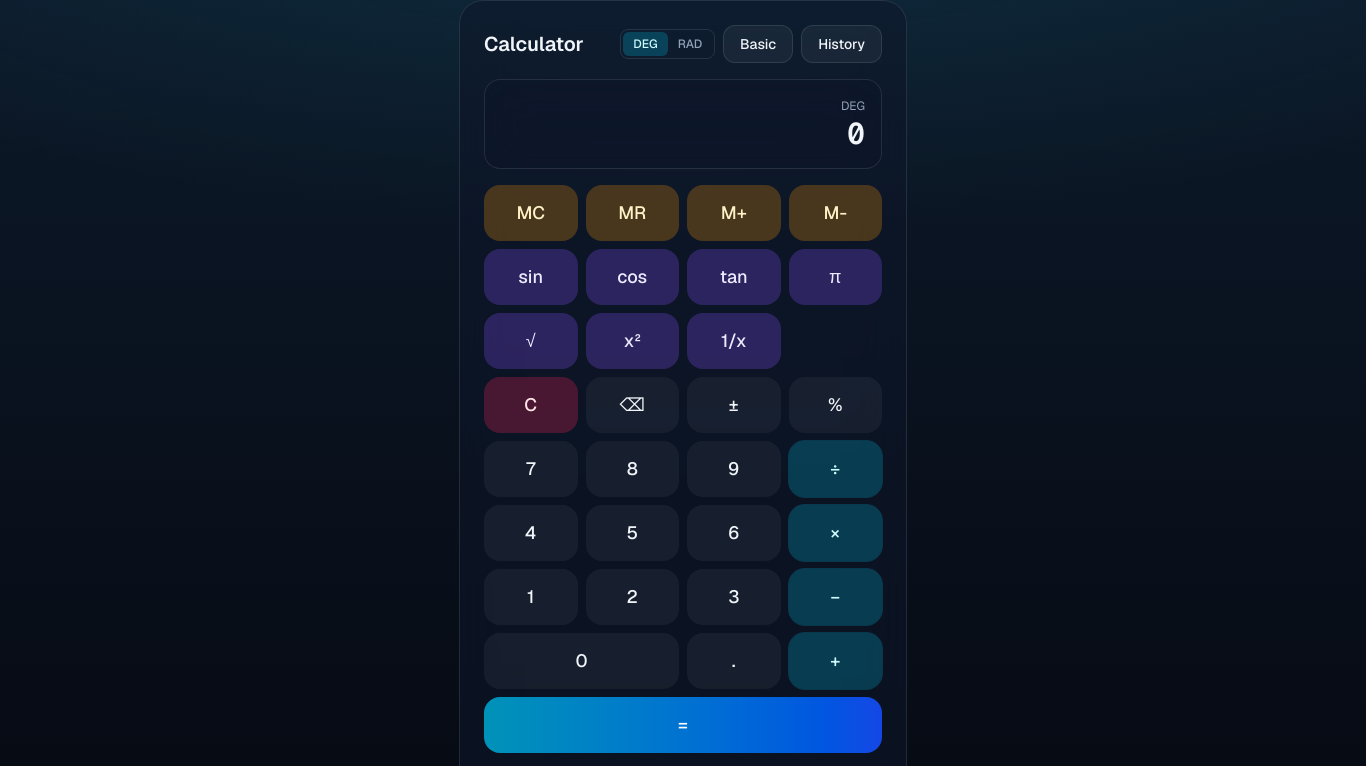
it: Calculator › shows the full expression before equals
Click the button "9".
click(734, 469)  # box x1=687 y1=441 x2=780 y2=497
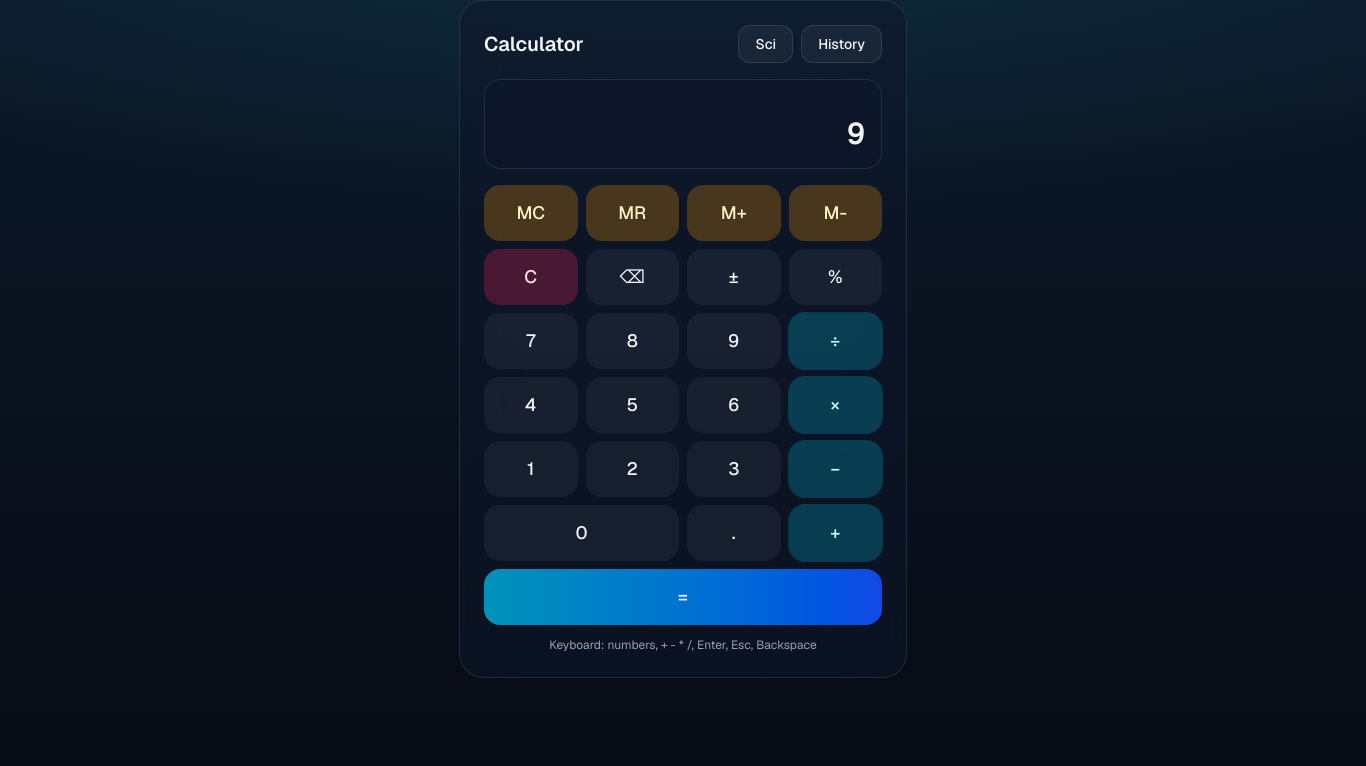
Click the button "×".
click(835, 405)  # box x1=788 y1=377 x2=882 y2=433
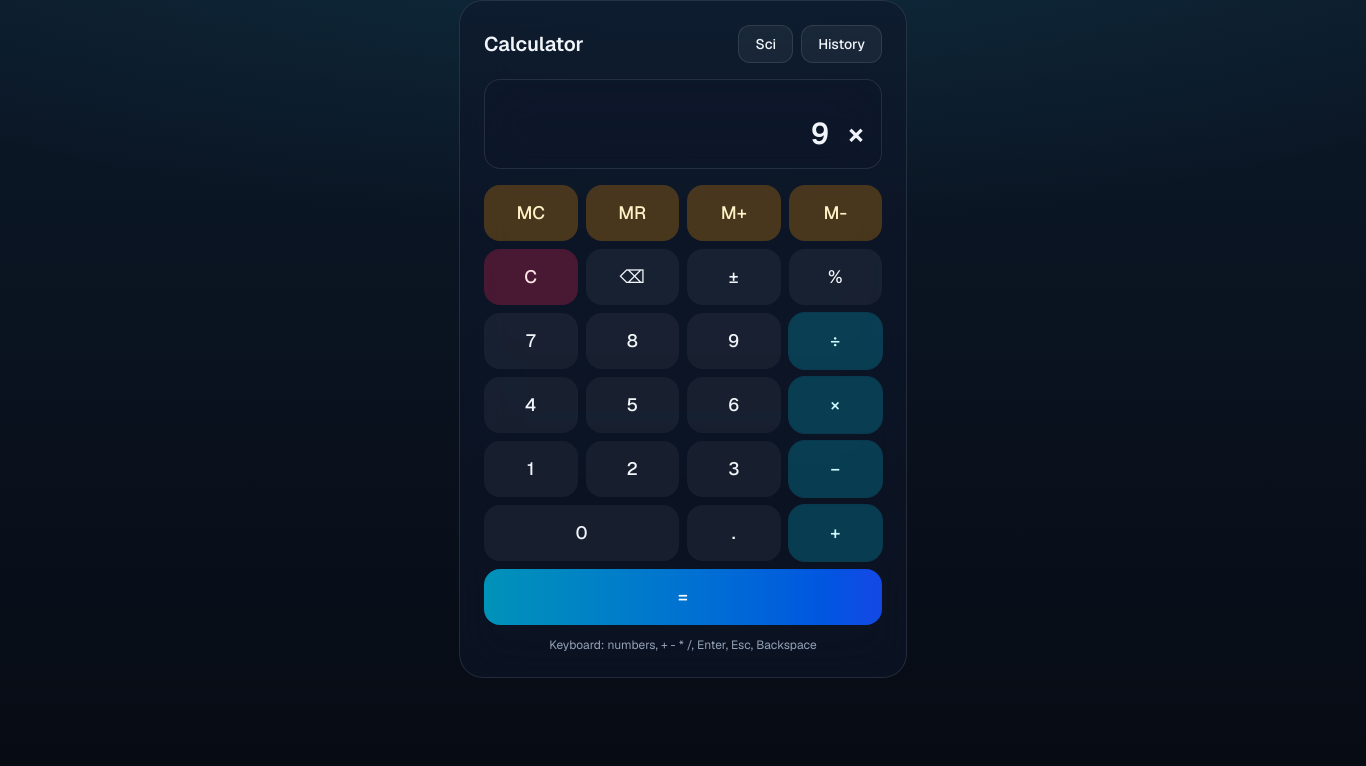
Click the button "6".
click(734, 405)  # box x1=687 y1=377 x2=780 y2=433
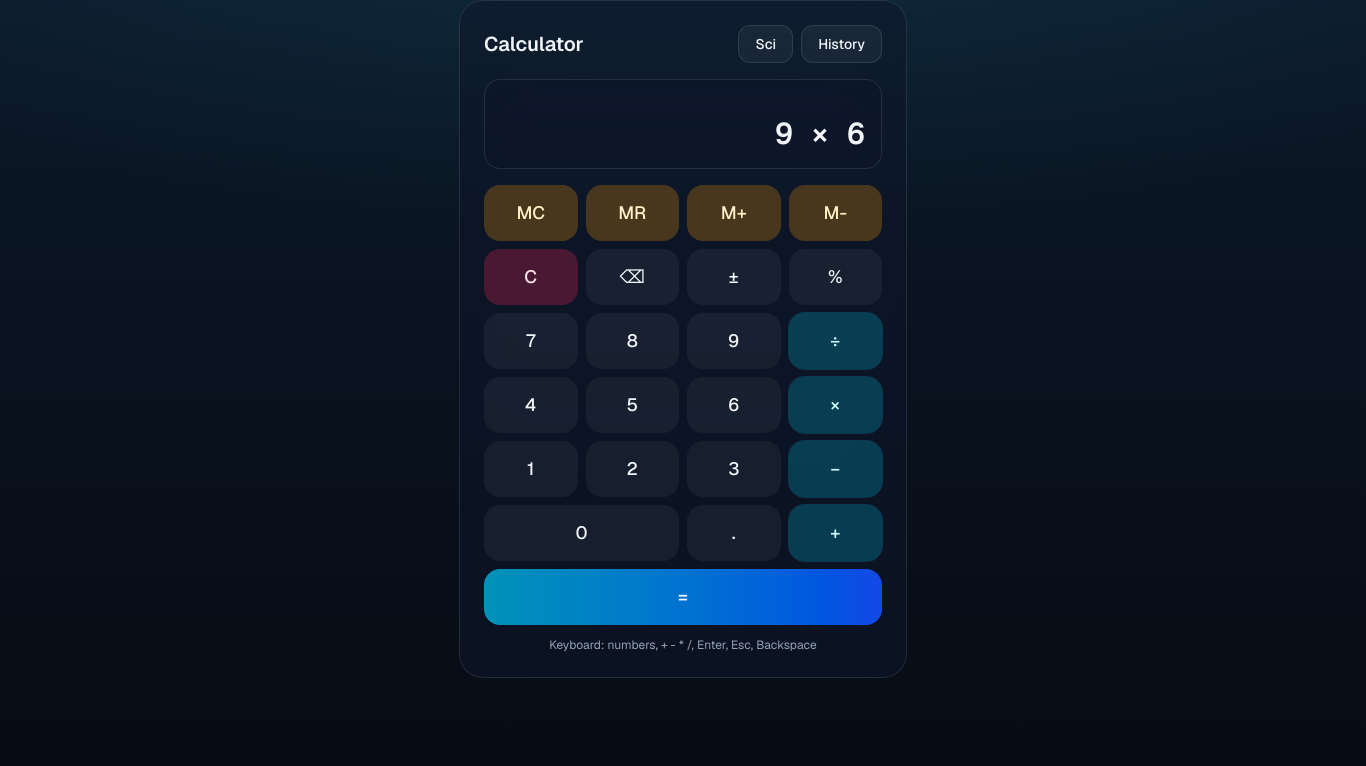
Now the text with test id "calc-display" reads "9 × 6", box x1=775 y1=114 x2=865 y2=153
